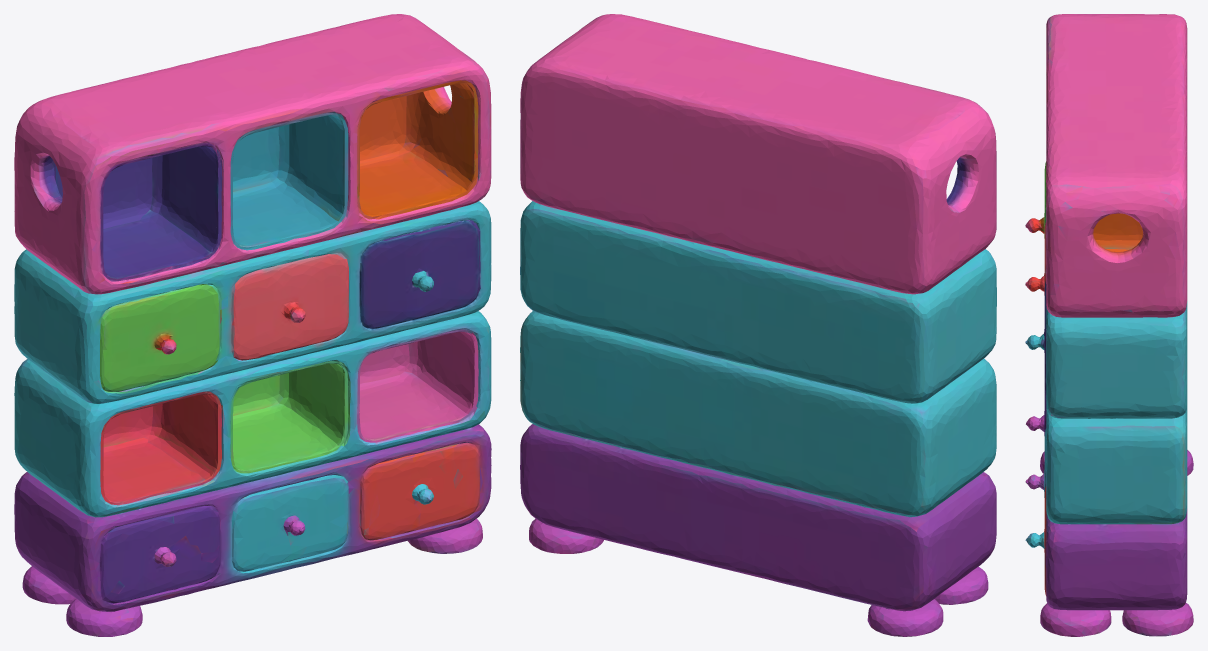
File: color-drawers.glb
3 views of the same model, side by side, from view 1: azimuth 30°, elevation 25°; view 2: azimuth 150°, elevation 25°; view 3: azimuth 270°, elevation 25° (orthographic). The views are drawn at different scales.
Visible parts, largest first — view 1: world; view 2: world; view 3: world.
Part boxes in pixels (x1,y1,x2,y2): world: (14,14,491,636); world: (520,14,996,636); world: (1025,14,1193,636).
Bounding box in the file's own units: 0.8915 × 1 × 0.3399.
Materials: 1 (1 with a texture image).
